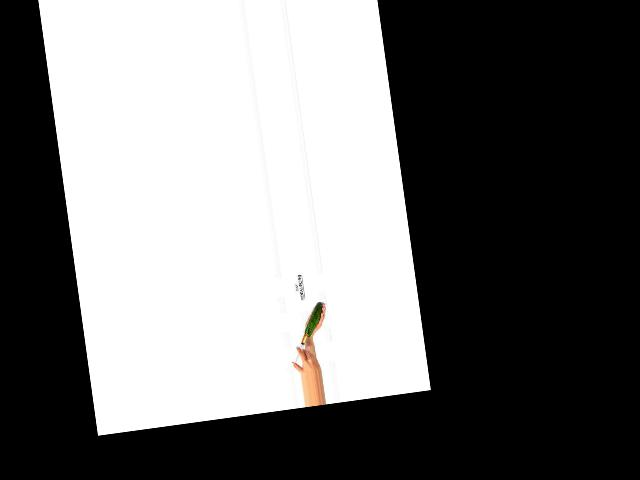cucumber: (300, 302, 326, 337)
